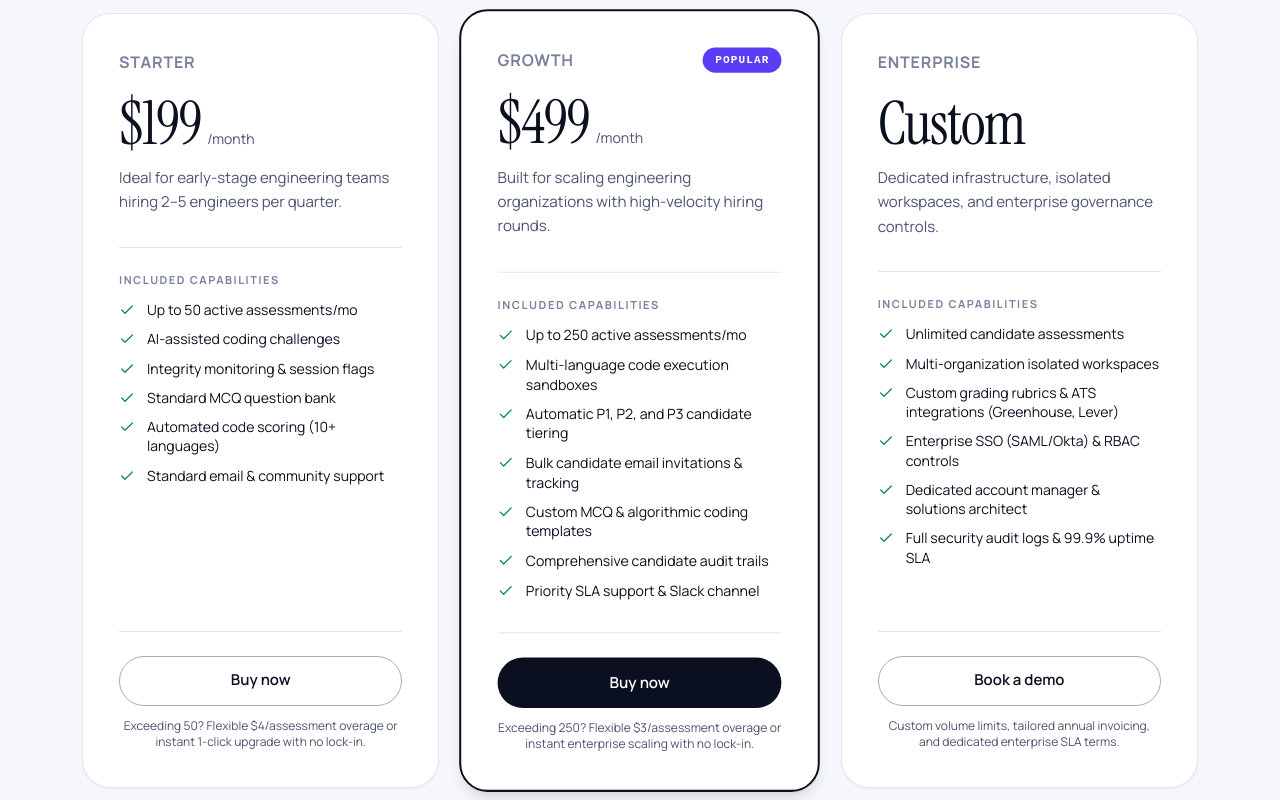
Test: PricingSection Component Selection & Interactivity › dynamically moves the active highlight when clicking Starter card
(page scrolled)
Click the button that starts with "Starter": point(103, 400) [82, 13, 439, 788]
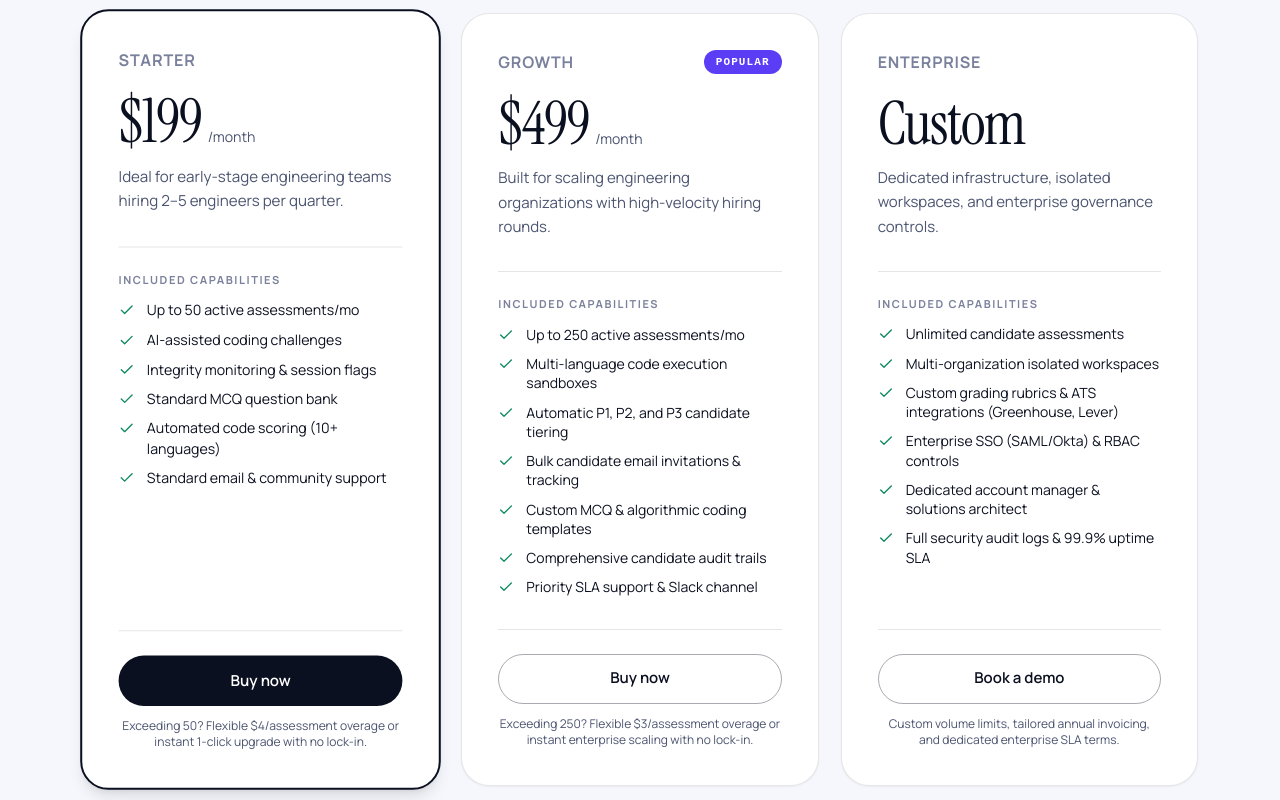
Now the button that starts with "Starter" is pressed, box [80, 9, 441, 790]
Now the button that starts with "Starter" has class "border-2", box [80, 9, 441, 790]
Now the button that starts with "Starter" has class "shadow-lg", box [80, 9, 441, 790]
